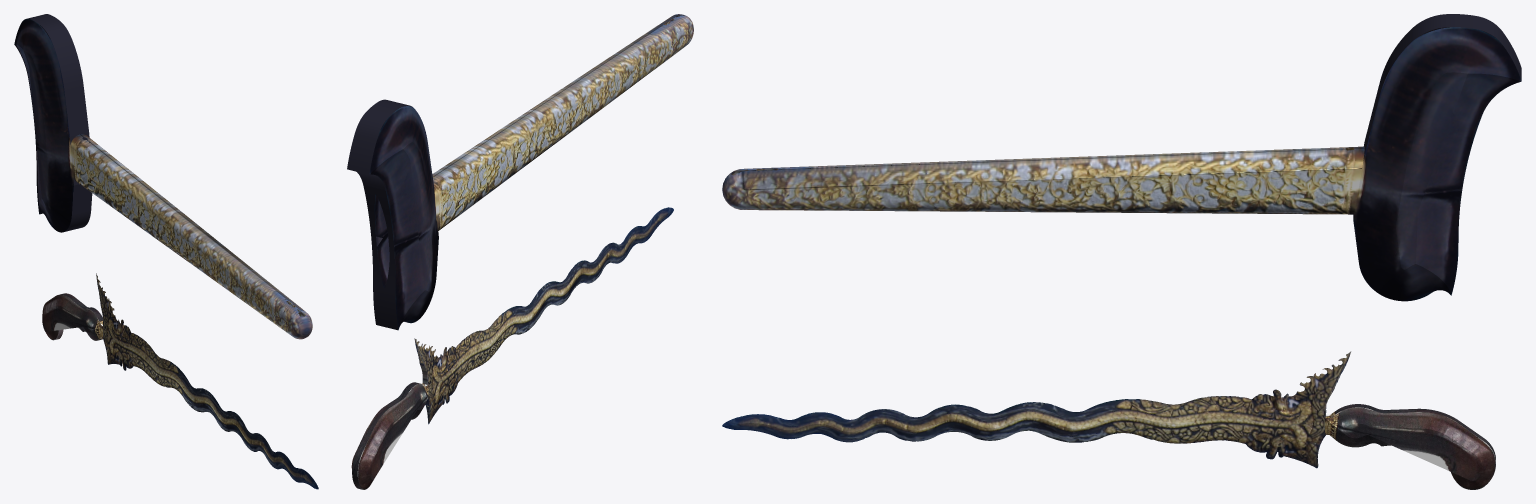
Rendered from Keris.obj.
3 renders of one model, left to right at view 1: azimuth 30°, elevation 25°; view 2: azimuth 150°, elevation 25°; view 3: azimuth 270°, elevation 25°, orthographic. The views are drawn at different scales.
Visible parts, largest first — view 1: Mesh3 Group1 Model, Mesh1 Group1 Model, Mesh2 Group1 Model; view 2: Mesh3 Group1 Model, Mesh1 Group1 Model, Mesh2 Group1 Model; view 3: Mesh3 Group1 Model, Mesh1 Group1 Model, Mesh2 Group1 Model.
Boxes of the visible parts, x1,y1,x2,y2 form: Mesh3 Group1 Model: (14, 14, 312, 339); Mesh1 Group1 Model: (96, 273, 318, 489); Mesh2 Group1 Model: (42, 293, 103, 340); Mesh3 Group1 Model: (347, 14, 693, 330); Mesh1 Group1 Model: (414, 207, 673, 424); Mesh2 Group1 Model: (351, 382, 428, 489); Mesh3 Group1 Model: (722, 14, 1521, 301); Mesh1 Group1 Model: (722, 351, 1351, 468); Mesh2 Group1 Model: (1324, 404, 1495, 489).
Bounding box in the file's own units: 0.1571 × 1.25 × 1.97.
